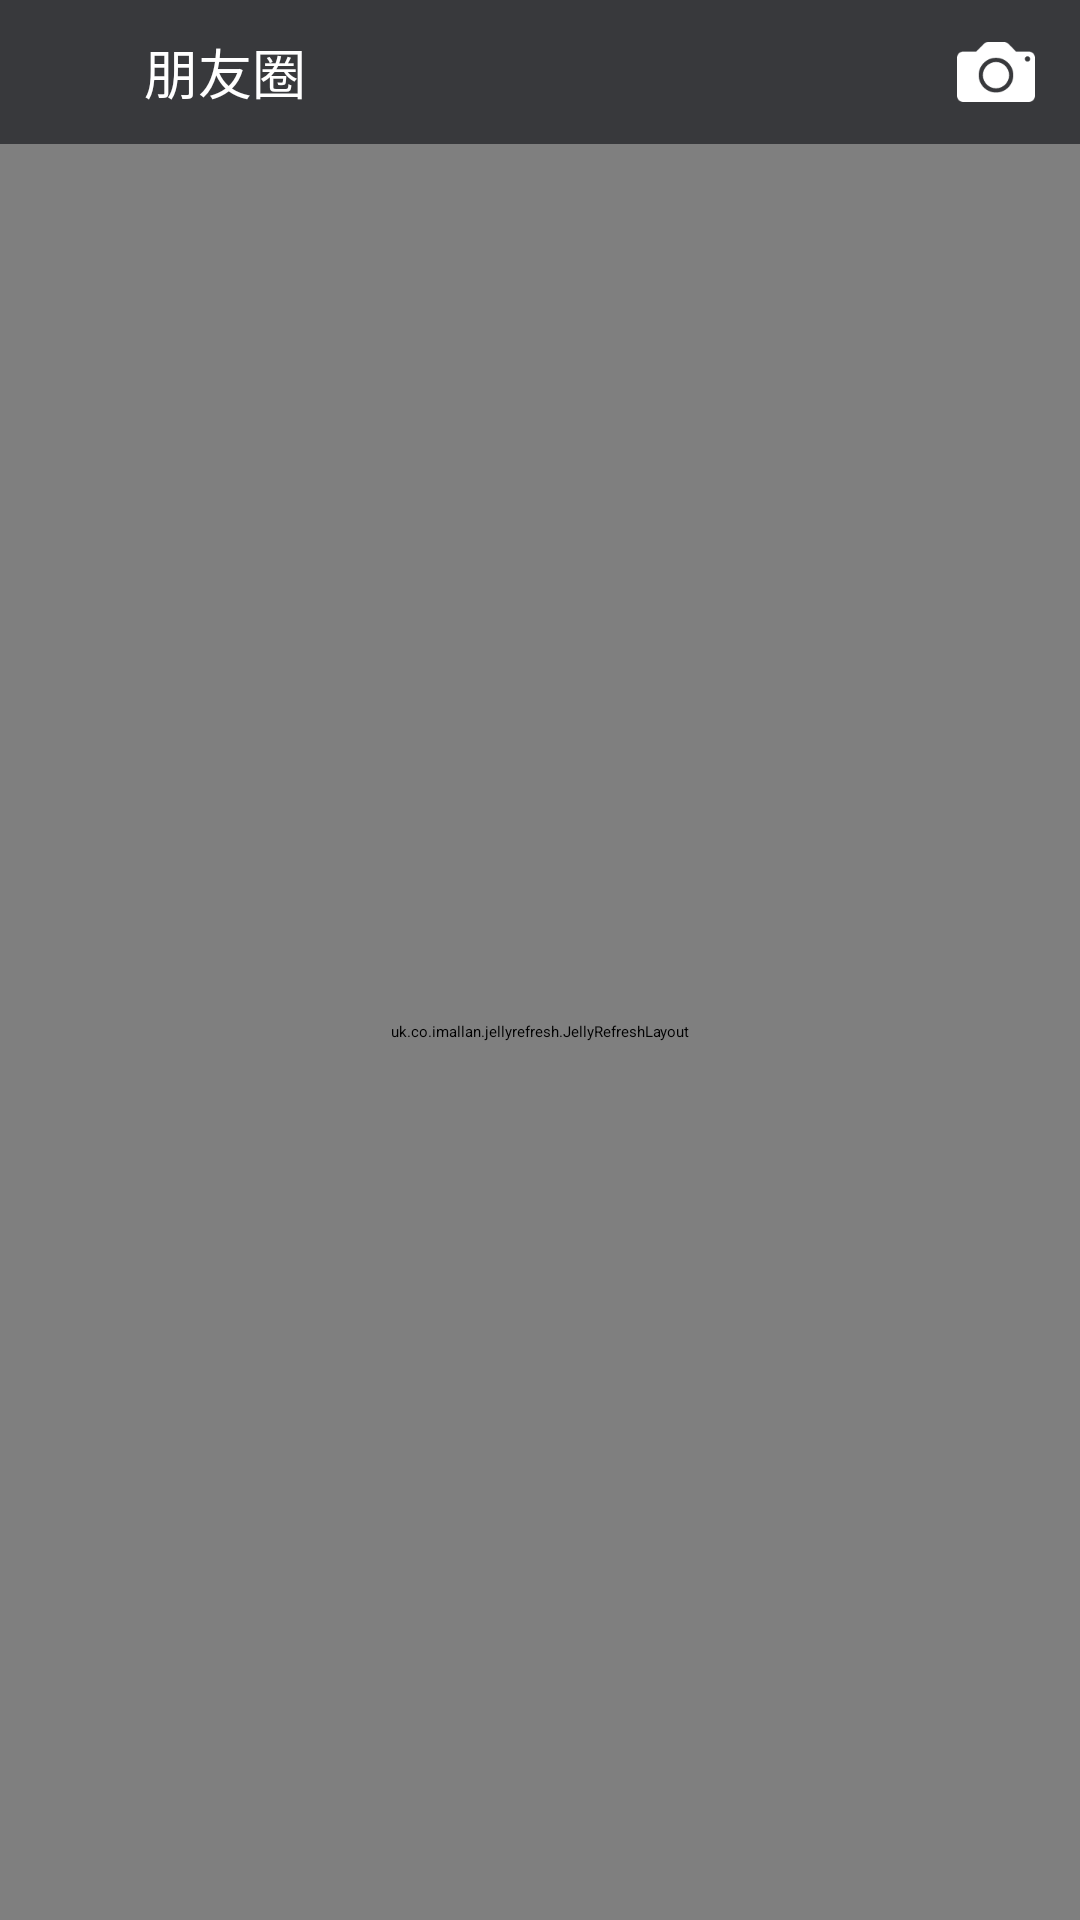

Icon click points for this 1080 × 1920 phone screenshot, format point (x, y):
camera: point (996, 72)
